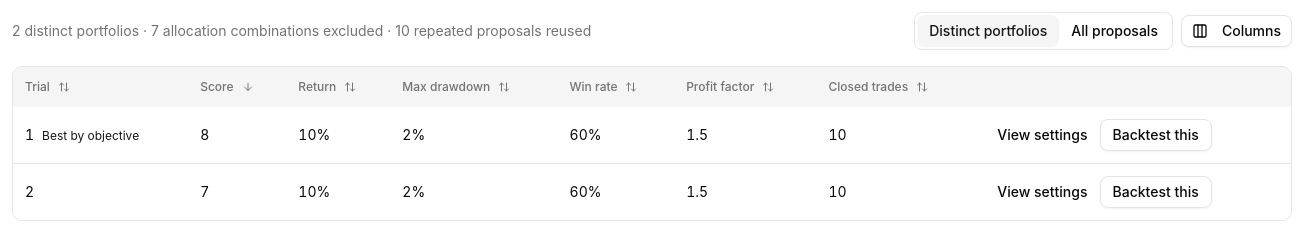
optimization trial comparison › labels missing old proposal history without inventing rejected or repeated rows
This screenshot has width=1304, height=238.
Click the button "All proposals". click: point(1115, 31)
box: [1059,15,1170,47]
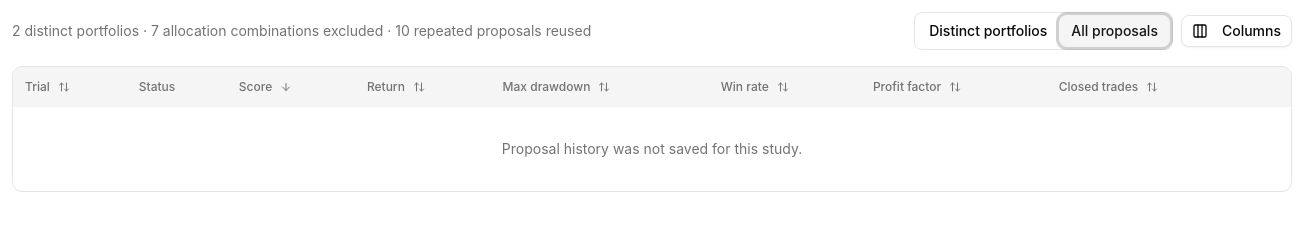
Now the text "Proposal history was not saved for this study." is shown, box [13,107,1291,191]
Click the button "Distinct portfolios". click: point(988, 31)
box: [917,15,1059,47]
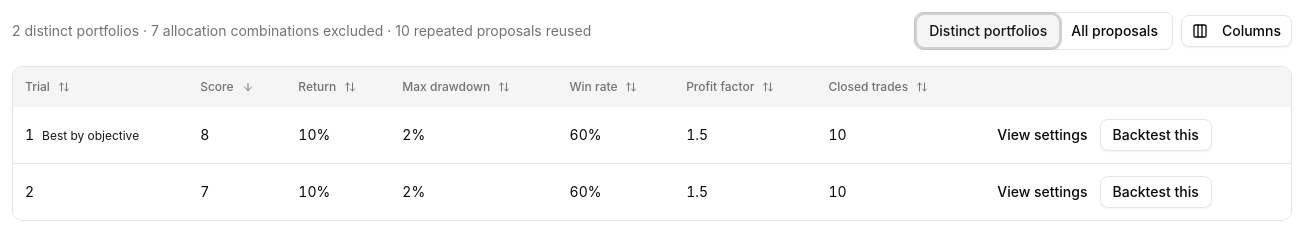
Now the number of buttons "View settings" is 2, box [985,119,1100,151]; [985,176,1100,208]
Now the text "Best by objective" is shown, box [42,128,139,143]
